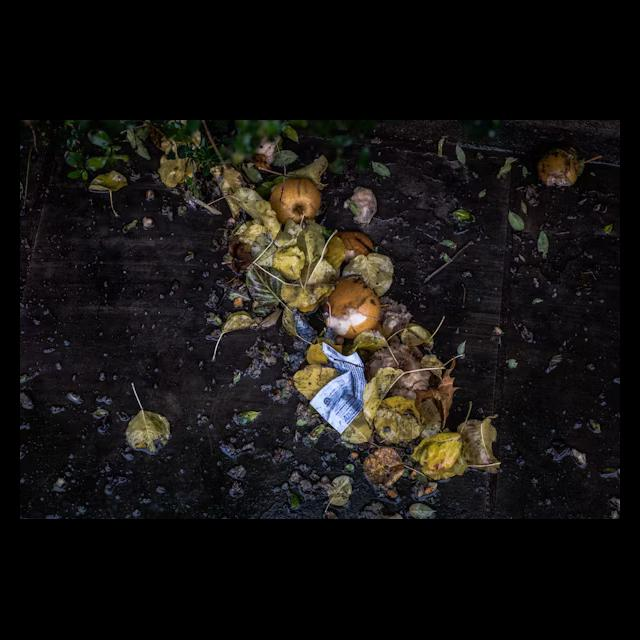food_waste: (410, 197, 564, 339), (235, 171, 313, 311), (20, 279, 144, 363), (132, 125, 216, 203), (96, 374, 177, 454), (314, 268, 376, 339), (257, 156, 321, 209)
